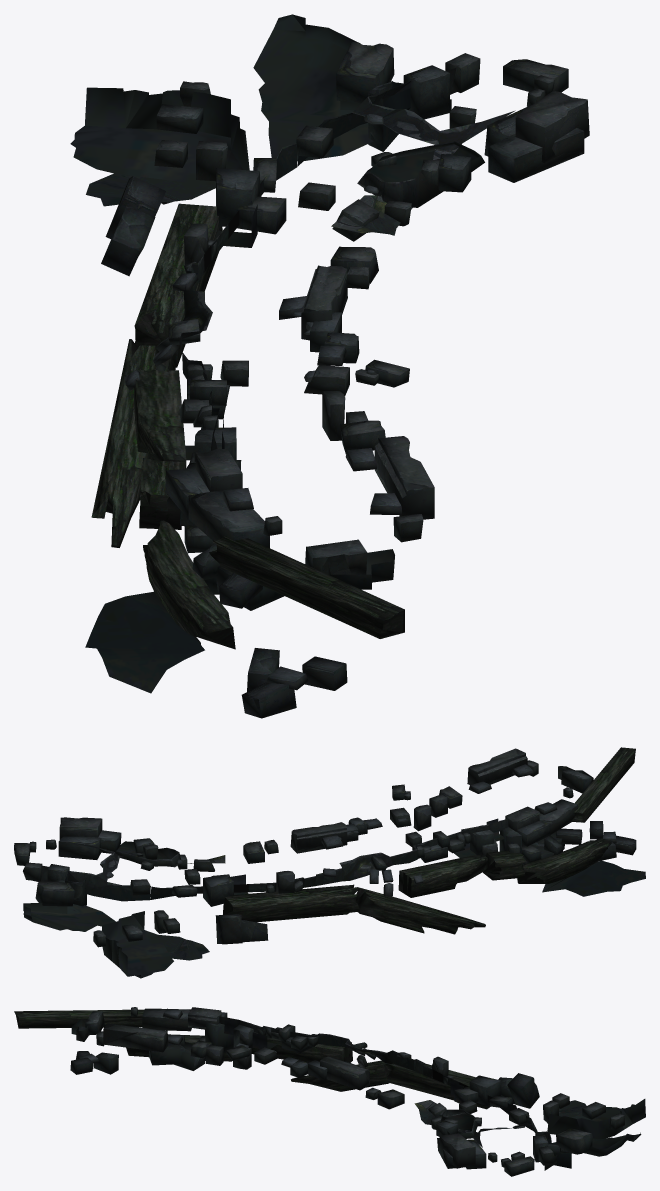
Rendered from ruisi_shandi06.FBX.
3 views of the same model, one above another, from view 1: azimuth 30°, elevation 25°; view 2: azimuth 150°, elevation 25°; view 3: azimuth 270°, elevation 25° (orthographic). The views are drawn at different scales.
Parts seen in each view (by area): view 1: ruisi_shandi06; view 2: ruisi_shandi06; view 3: ruisi_shandi06.
Part boxes in pixels (x1,y1,x2,y2): ruisi_shandi06: [70, 14, 589, 718]; ruisi_shandi06: [14, 747, 645, 978]; ruisi_shandi06: [14, 1007, 645, 1176].
Size of the model in its own units: 391 by 77.48 by 517.
